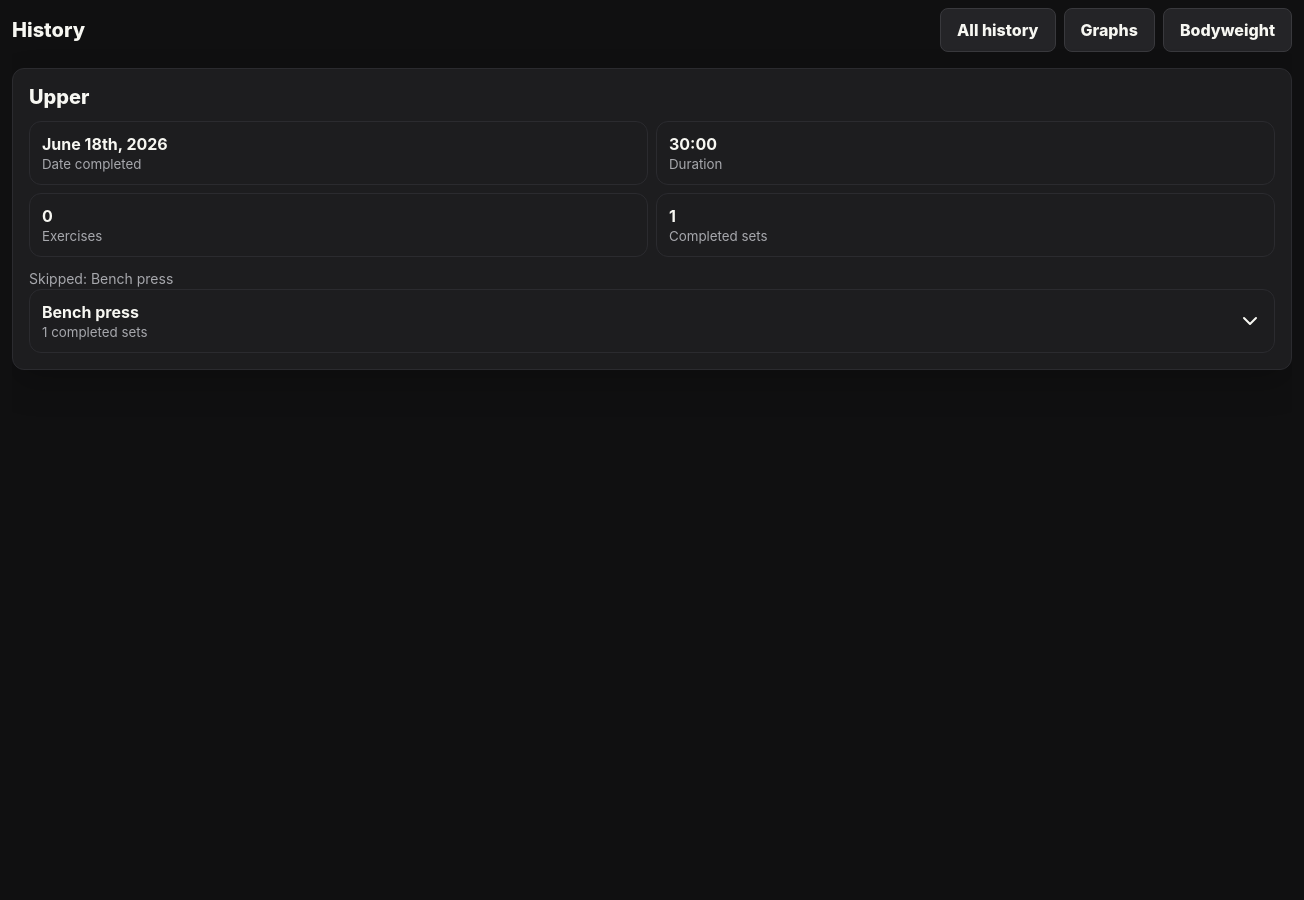
Test: HistoryPage › displays full workout detail including snapshots, timestamps, sets, skipped exercises, and changes
Expected: the text "Date completed" is shown, x1=42 y1=156 x2=142 y2=172
Expected: the text "June 18th, 2026" is shown, x1=42 y1=134 x2=168 y2=154
Click the button "Bench press 1 completed sets" at coordinates (90, 312), box x1=30 y1=290 x2=1274 y2=352
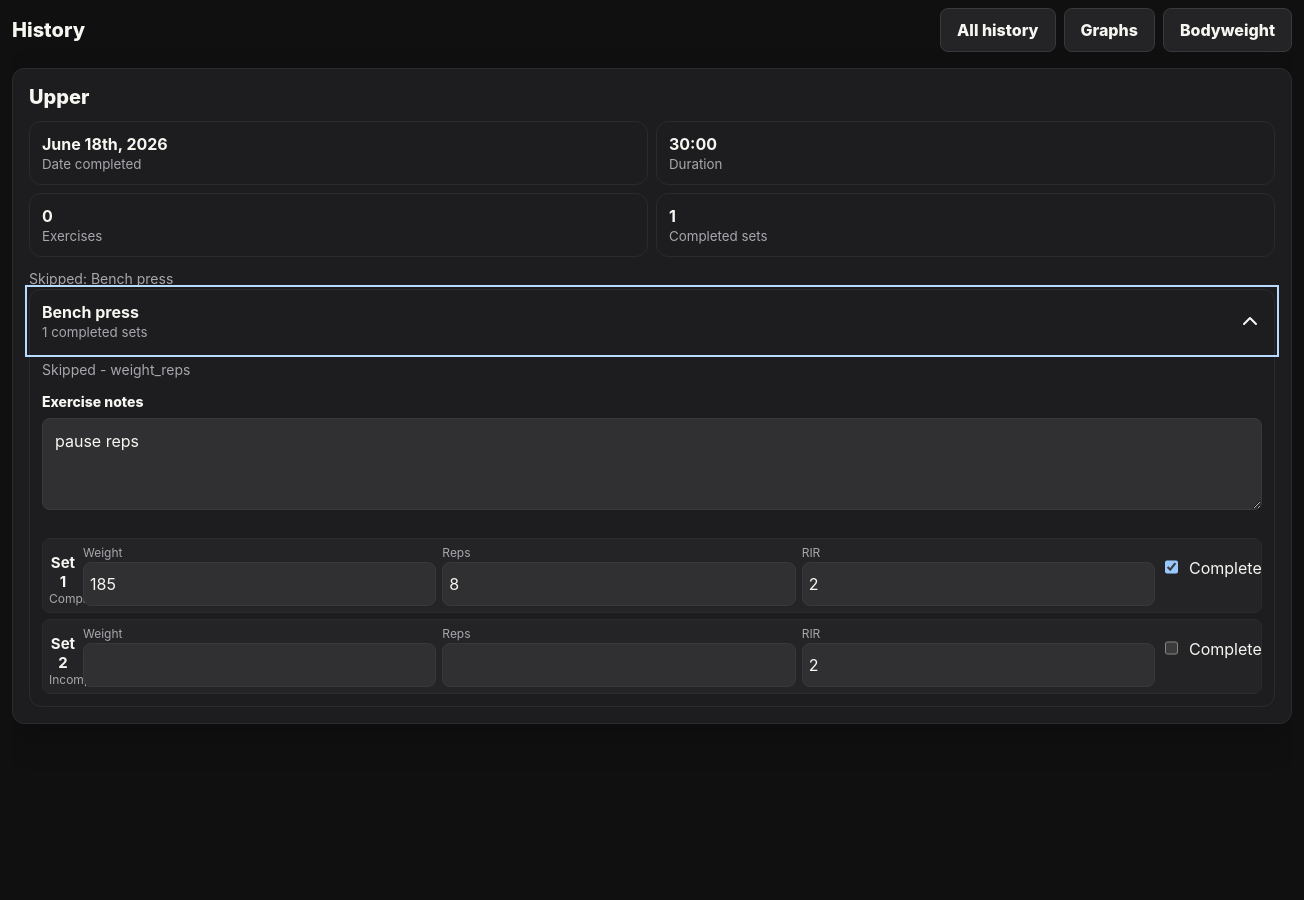
Expected: the text box labelled "Exercise notes" holds "pause reps", x1=42 y1=418 x2=1262 y2=510
Expected: the field named "Set 1 Weight" holds "185", x1=83 y1=562 x2=436 y2=606
Expected: the field named "Set 1 Reps" holds "8", x1=442 y1=562 x2=796 y2=606
